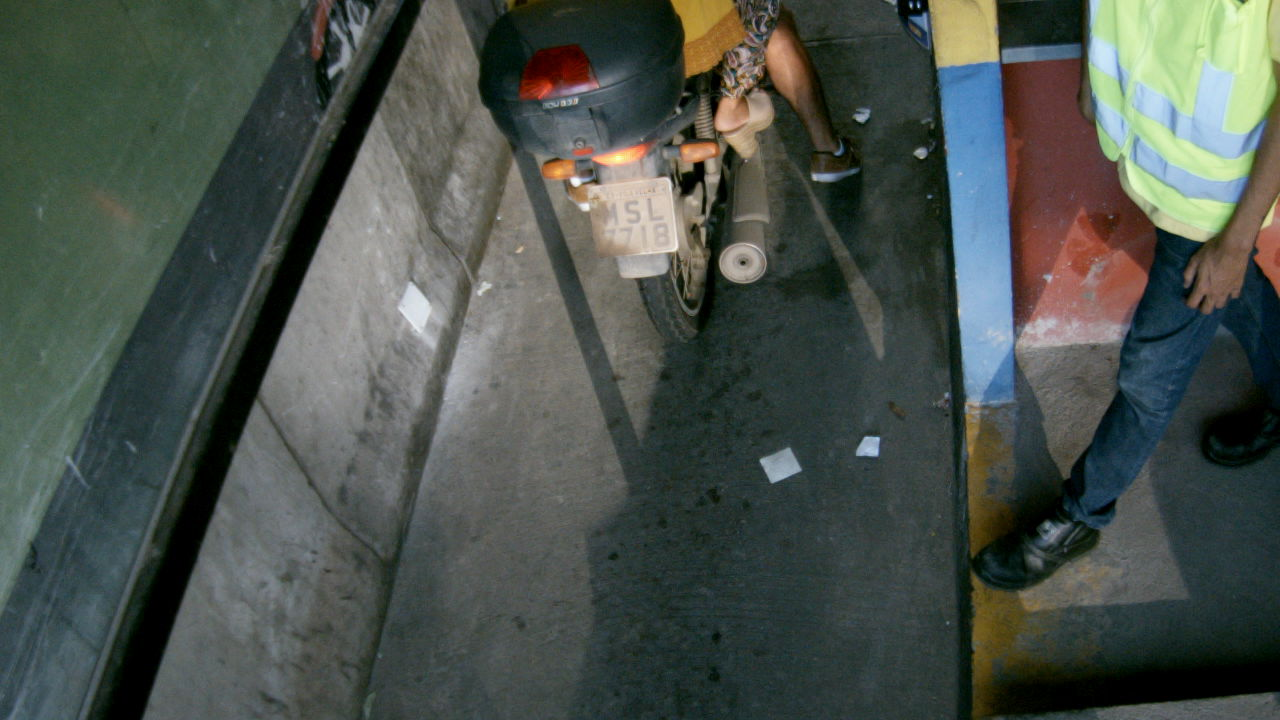placa: (586, 175, 679, 260)
